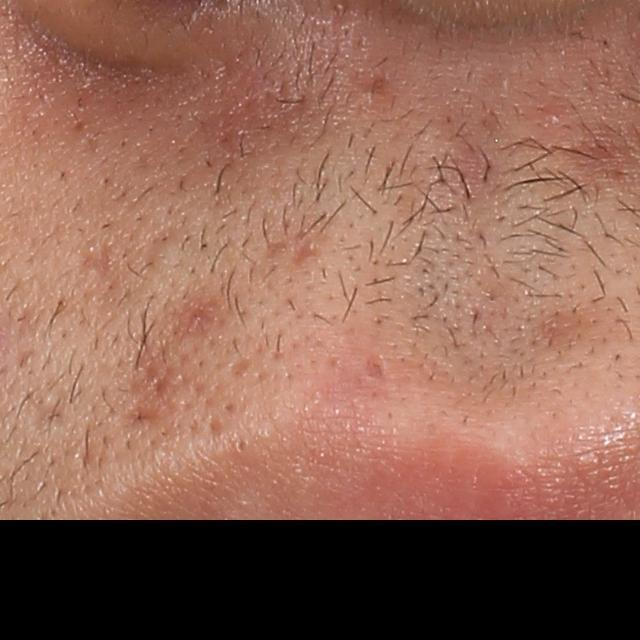atrophic_scar: (123, 334, 268, 444), (30, 378, 76, 432), (80, 241, 115, 280), (287, 235, 328, 265), (362, 347, 387, 382)
papule: (538, 101, 565, 129)
